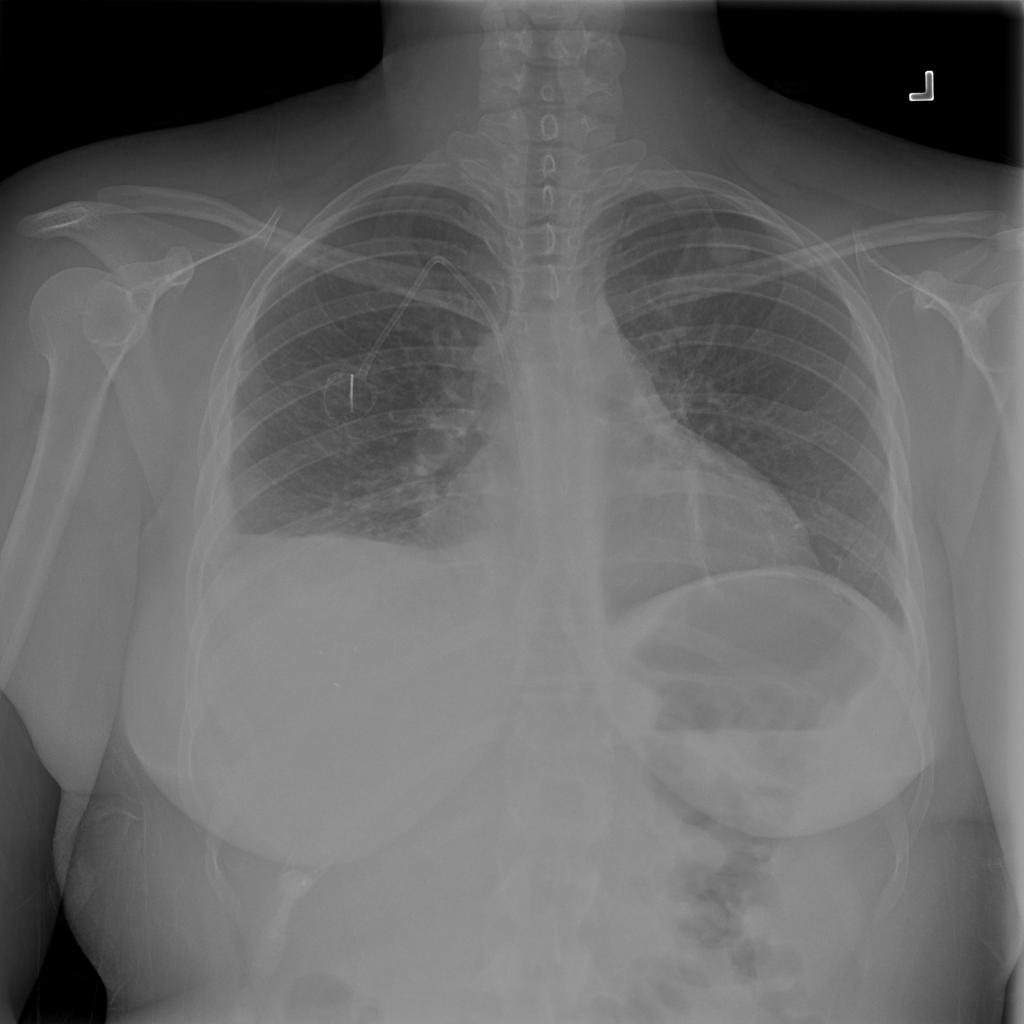nodule: (688, 220, 771, 279), (222, 409, 276, 456)
